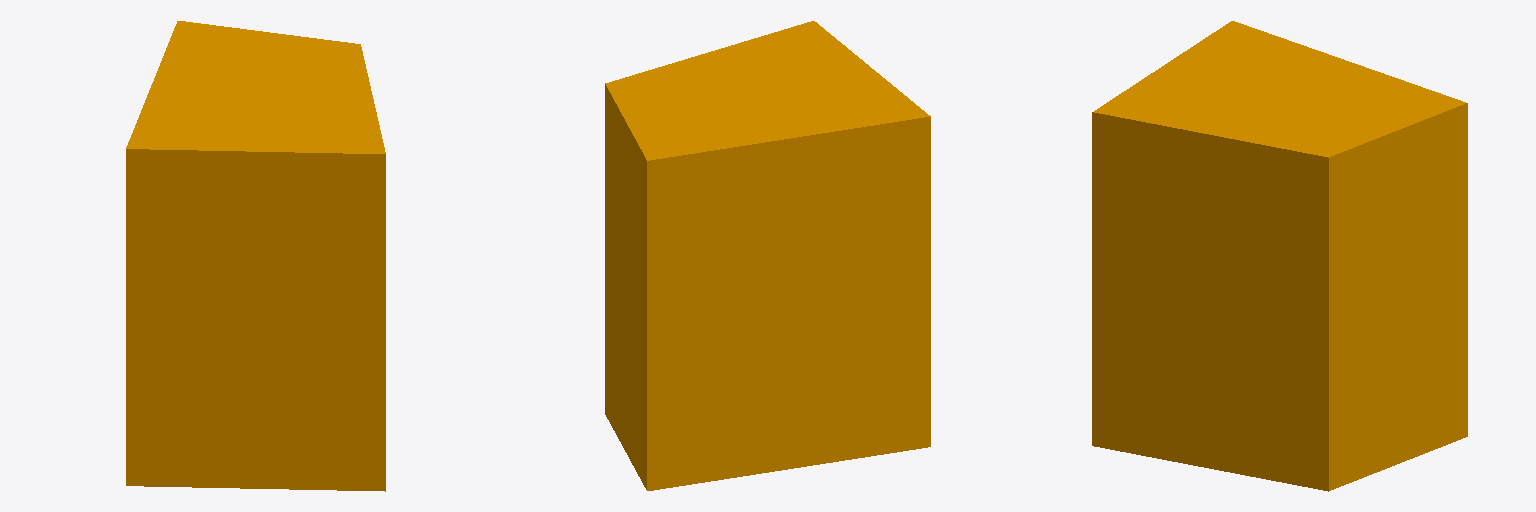
The robot description file, URDF, robot "object":
<?xml version="1.0"?>
<robot name="object">
  <link name="object">
    <visual>
      <origin xyz="0 0 0"/>
      <geometry>
        <mesh filename="meshes/generated/col_011.obj" scale="0.03 0.03 0.03"/>
      </geometry>
    </visual>
    <collision>
      <origin xyz="0 0 0"/>
      <geometry>
        <mesh filename="meshes/generated/col_011.obj" scale="0.03 0.03 0.03"/>
      </geometry>
    </collision>
    <inertial>
      <density value="1000.0"/>
    </inertial>
  </link>
</robot>

--- Facts derived from the render (not from the file) ---
The picture shows the robot from 3 angles, left to right: view 1: azimuth 30°, elevation 25°; view 2: azimuth 150°, elevation 25°; view 3: azimuth 270°, elevation 25°; orthographic projection.
Robot: object — 1 links, 0 joints (none); root link object; default pose: all joints at 0.
Links seen in each view (by area): view 1: object; view 2: object; view 3: object.
Boxes of the visible links, x1,y1,x2,y2 form: object: [126, 21, 385, 491]; object: [605, 21, 930, 490]; object: [1092, 21, 1467, 491].
Size in the robot's own frame: 0.0528 by 0.0611 by 0.06 metres.
Meshes: 1 distinct files referenced, 1 mesh visuals loaded (1 OBJ).
